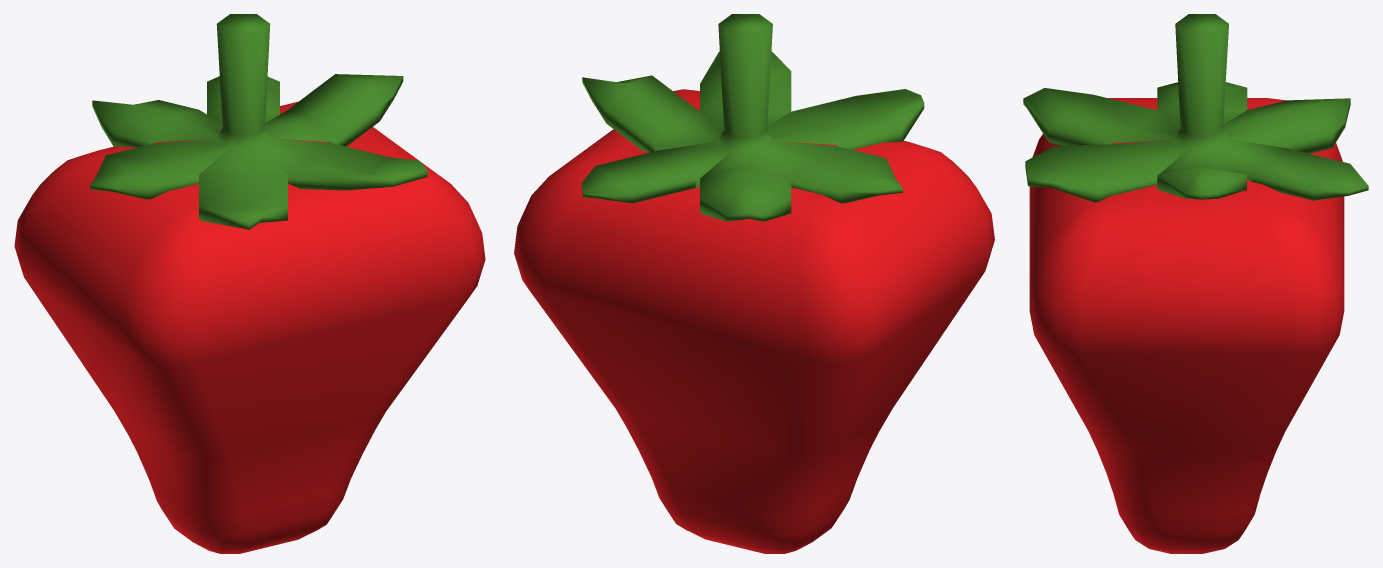
File: strawberry.fbx
3 renders of one model, left to right at view 1: azimuth 30°, elevation 25°; view 2: azimuth 150°, elevation 25°; view 3: azimuth 270°, elevation 25°, orthographic. The views are drawn at different scales.
Parts seen in each view (by area): view 1: Strawberry; view 2: Strawberry; view 3: Strawberry.
Boxes of the visible parts, left/top/right/bottom form: Strawberry: left=14, top=14, right=485, bottom=553; Strawberry: left=514, top=14, right=994, bottom=553; Strawberry: left=1023, top=14, right=1368, bottom=553.
Size of the model in its own units: 157 by 132 by 215.
